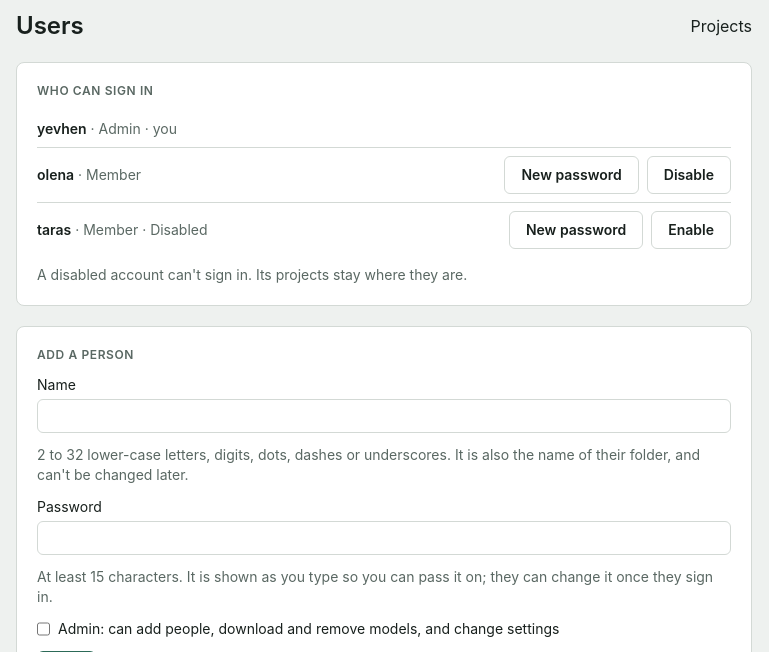
Users › says why an account couldn't be disabled
Step 1. Click the button with aria-label "Disable olena" → (689, 175), box [647,156,731,194]
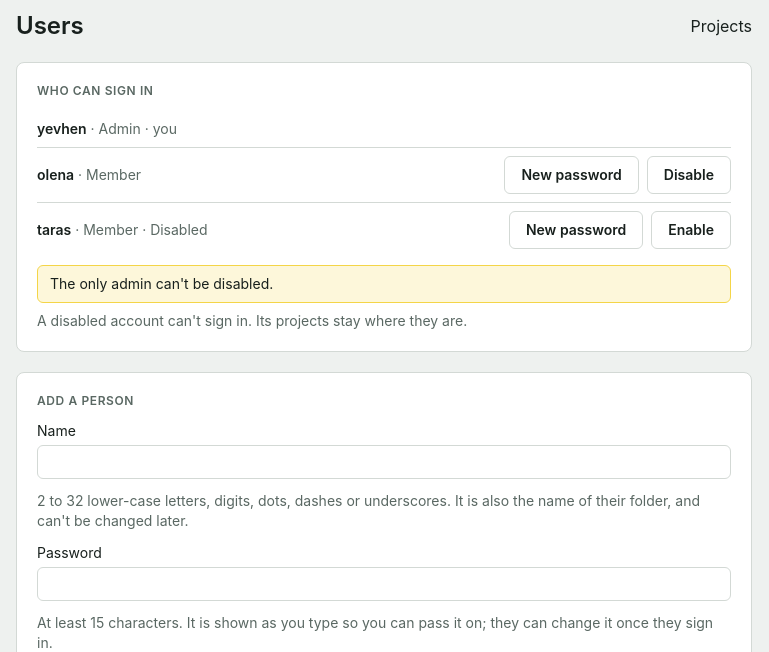
Check: the message reads "The only admin can't be disabled.", box [50,275,273,292]
